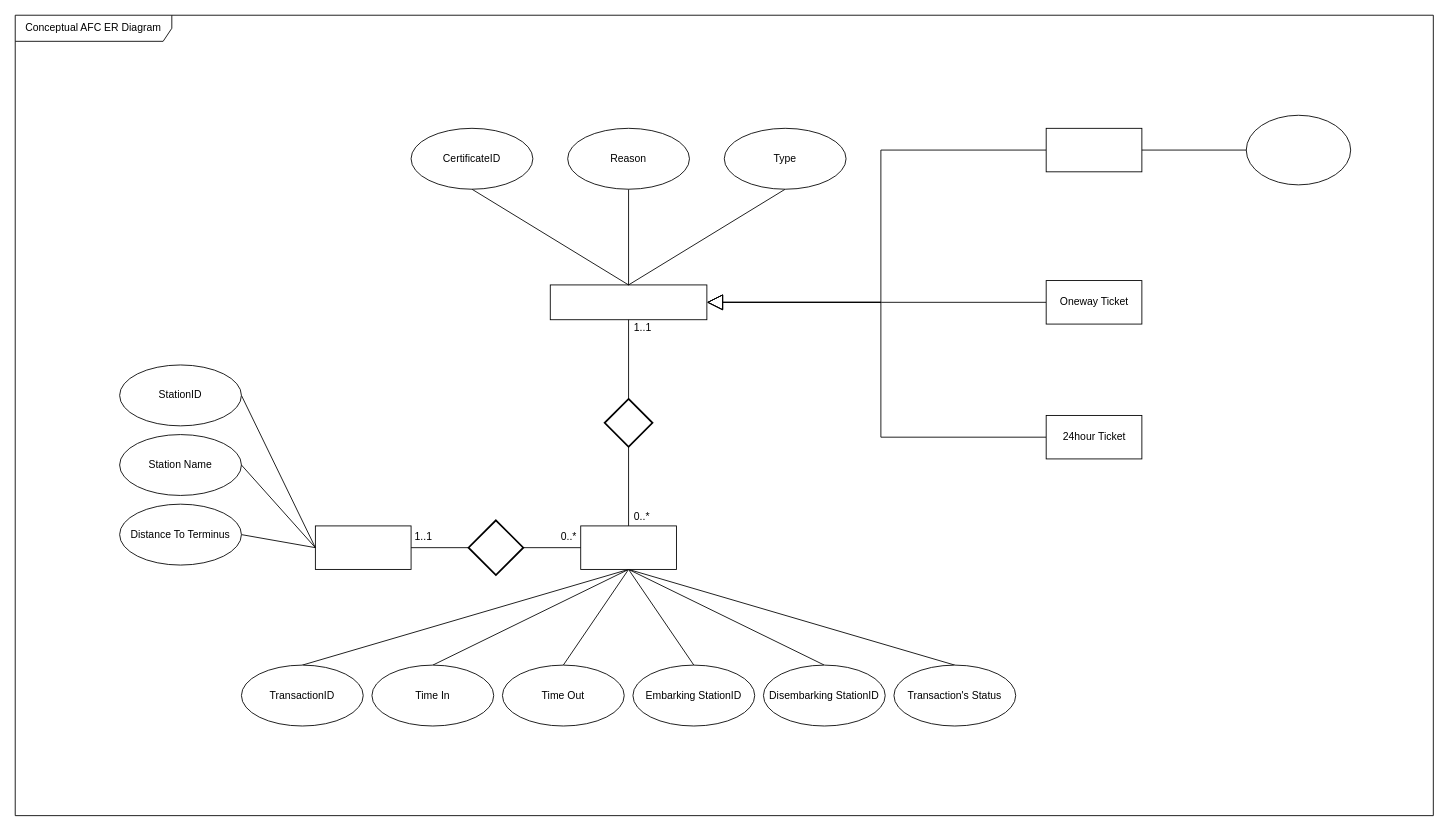
Image size: 1449x831. Some labels were removed from this diagram. The centre of each missing label's shape, as x and y in pixels:
"Balance" goes at point (1298, 149).
"Has" goes at point (628, 422).
"Include" goes at point (495, 547).
"Prepaid Card" goes at point (1093, 149).
"Station System" goes at point (363, 547).
"Transaction History" goes at point (628, 547).
"Travel Certificate Information" goes at point (628, 302).
